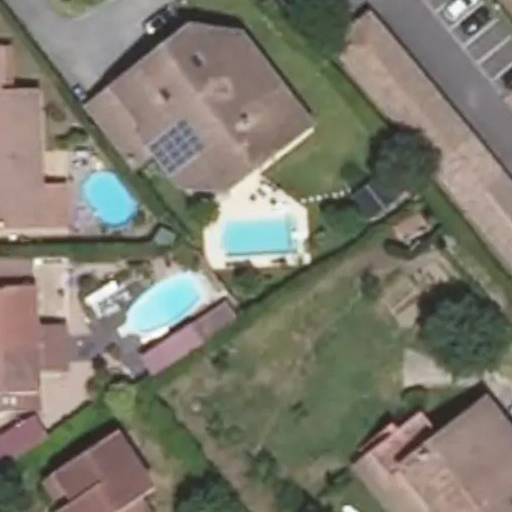pool: (216, 220, 295, 263)
